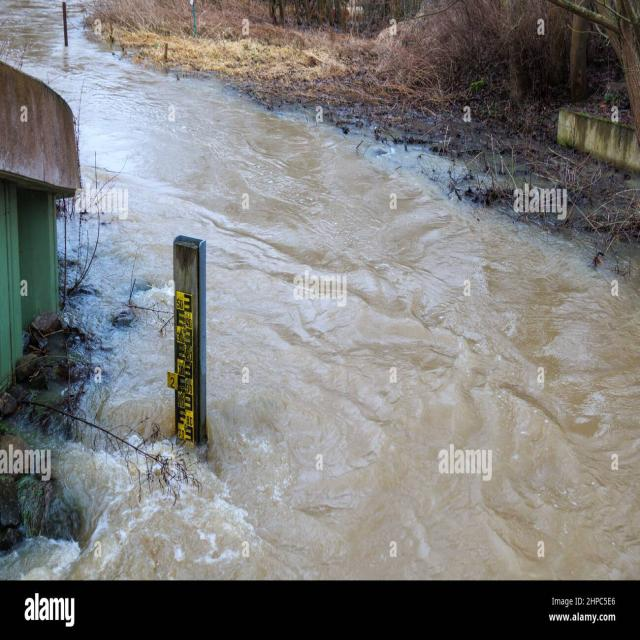ruler: (166, 290, 198, 446)
value: (175, 329, 184, 344), (177, 394, 185, 410), (184, 349, 193, 363), (176, 296, 185, 310), (183, 381, 193, 393), (176, 363, 186, 375), (185, 414, 194, 427), (177, 427, 186, 440), (184, 316, 192, 328)
